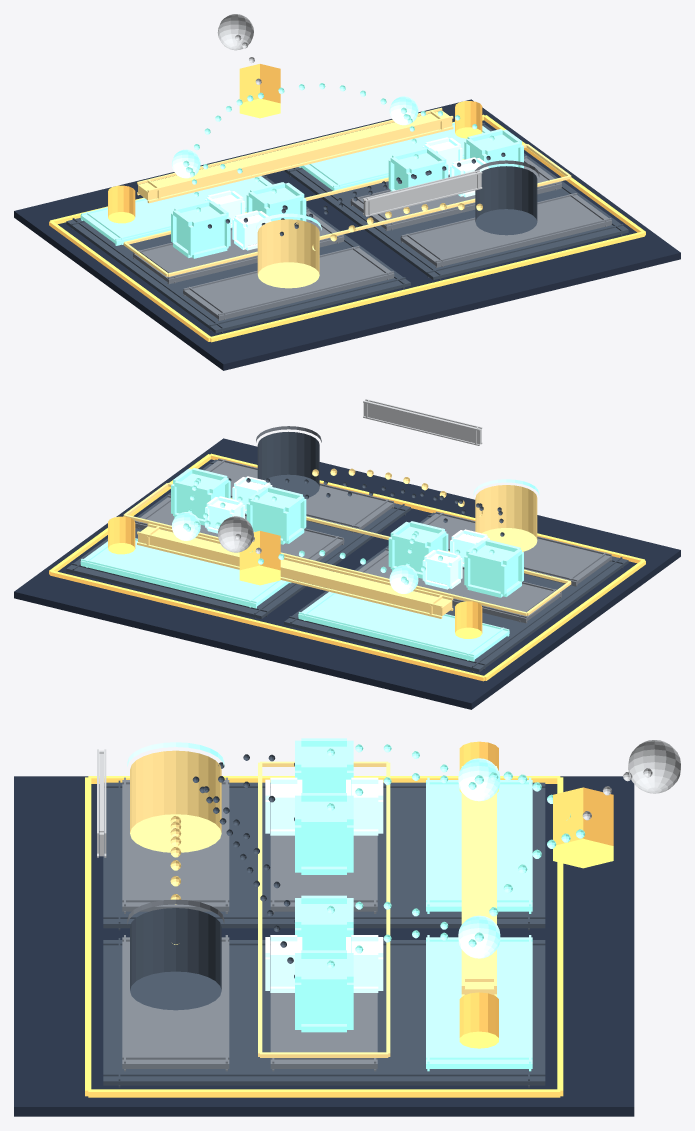
File: aws-vpc-multi-az.glb
3 views of the same model, one above another, from view 1: azimuth 30°, elevation 25°; view 2: azimuth 150°, elevation 25°; view 3: azimuth 270°, elevation 25° (orthographic). The views are drawn at different scales.
Parts seen in each view (by area): view 1: region-floor, alb, az-a-pad, az-b-pad, az-a-subnet-data, az-b-subnet-data, vpc-boundary, az-a-rds, az-b-rds, az-a-subnet-public, az-b-subnet-public, az-a-subnet-app (+16 smaller); view 2: region-floor, az-a-subnet-public, alb, vpc-boundary, az-b-subnet-public, az-a-pad, az-b-pad, az-a-rds, az-a-subnet-data, az-b-rds, az-b-subnet-data, az-a-ec2-0 (+17 smaller); view 3: region-floor, az-b-pad, az-a-pad, az-b-subnet-public, vpc-boundary, az-a-subnet-public, az-b-rds, az-a-rds, az-b-subnet-data, az-a-subnet-data, alb, az-b-subnet-app (+18 smaller).
Boxes of the visible parts, <box> form: region-floor: <box>14,99,680,370</box>; alb: <box>137,107,453,203</box>; az-a-pad: <box>66,175,410,333</box>; az-b-pad: <box>284,123,628,280</box>; az-a-subnet-data: <box>183,246,394,320</box>; az-b-subnet-data: <box>400,193,611,267</box>; vpc-boundary: <box>49,114,645,342</box>; az-a-rds: <box>257,219,319,288</box>; az-b-rds: <box>475,166,537,235</box>; az-a-subnet-public: <box>80,176,272,245</box>; az-b-subnet-public: <box>299,122,489,190</box>; az-a-subnet-app: <box>133,209,344,284</box>; region-floor: <box>14,438,680,709</box>; az-a-subnet-public: <box>298,591,509,661</box>; alb: <box>137,523,453,618</box>; vpc-boundary: <box>49,453,645,681</box>; az-b-subnet-public: <box>80,538,291,608</box>; az-a-pad: <box>284,512,628,672</box>; az-b-pad: <box>66,459,410,619</box>; az-a-rds: <box>475,485,537,551</box>; az-a-subnet-data: <box>422,511,611,586</box>; az-b-rds: <box>257,431,319,498</box>; az-b-subnet-data: <box>205,458,394,533</box>; az-a-ec2-0: <box>464,539,523,597</box>; region-floor: <box>14,776,634,1116</box>; az-b-pad: <box>103,938,545,1087</box>; az-a-pad: <box>103,780,545,930</box>; az-b-subnet-public: <box>426,935,532,1071</box>; vpc-boundary: <box>85,776,563,1097</box>; az-a-subnet-public: <box>426,777,532,913</box>; az-b-rds: <box>130,908,221,1010</box>; az-a-rds: <box>130,750,221,852</box>; az-b-subnet-data: <box>122,935,229,1071</box>; az-a-subnet-data: <box>122,777,229,913</box>; alb: <box>461,766,496,996</box>; az-b-subnet-app: <box>270,993,377,1071</box>.
Size of what is drawn, in the model's own units: 5.8 by 1.71 by 4.94.
